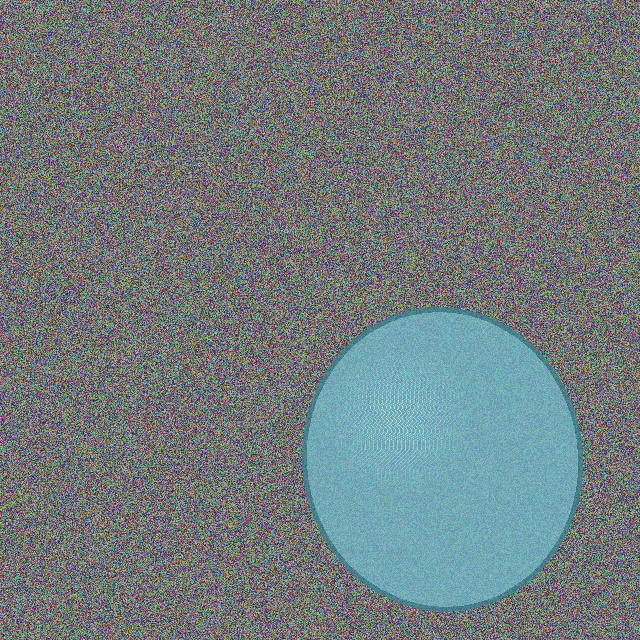lens: (305, 310, 579, 608)
